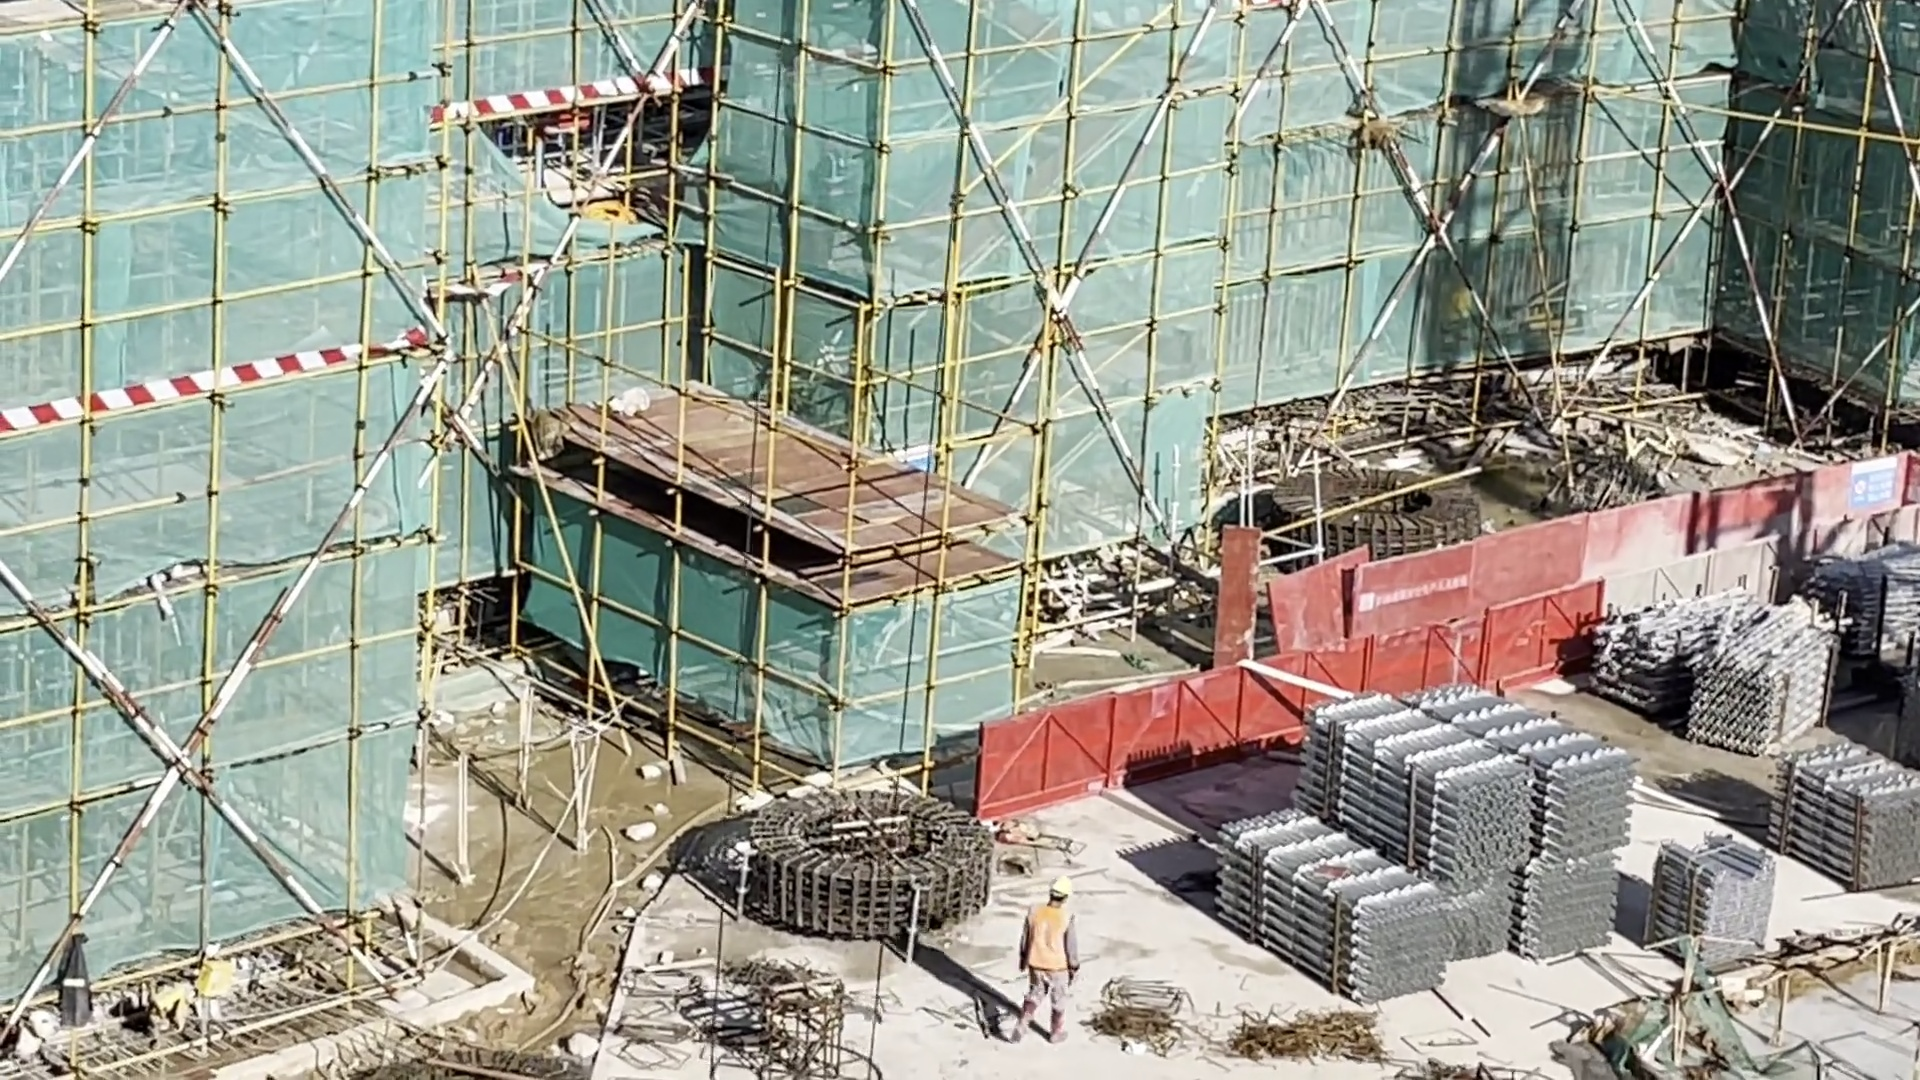fence: (979, 501, 1920, 817)
helmet: (1045, 875, 1072, 907)
person: (1015, 878, 1076, 1044)
scaffold: (1208, 678, 1630, 996), (1611, 589, 1846, 756), (1775, 721, 1919, 890), (1648, 832, 1776, 968)
vest: (1027, 908, 1069, 969)
